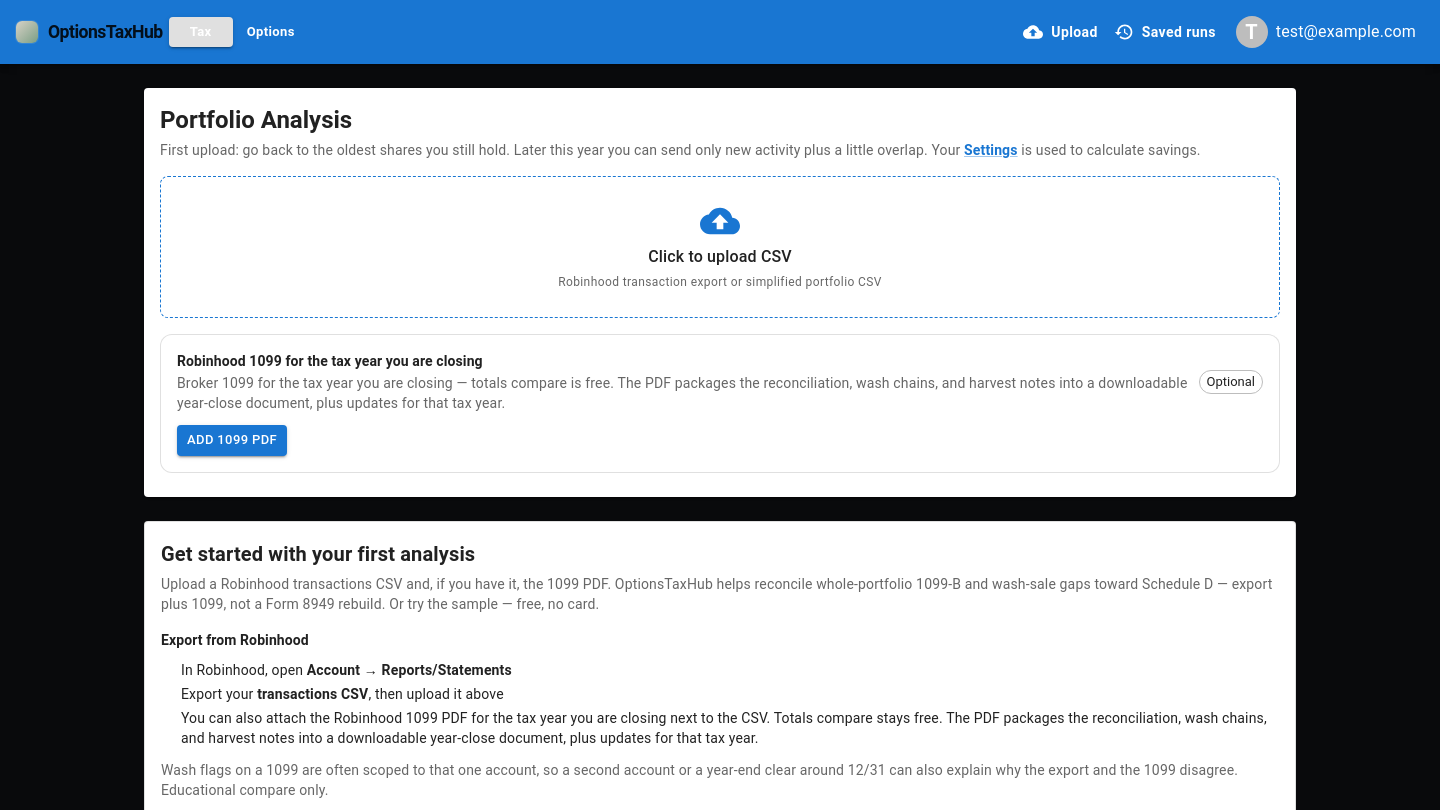
Scenario: DashboardPage › loads a saved analysis from history and shows saved-history messaging
Click the button "Saved runs" at (1167, 32), box [1110, 14, 1224, 50]
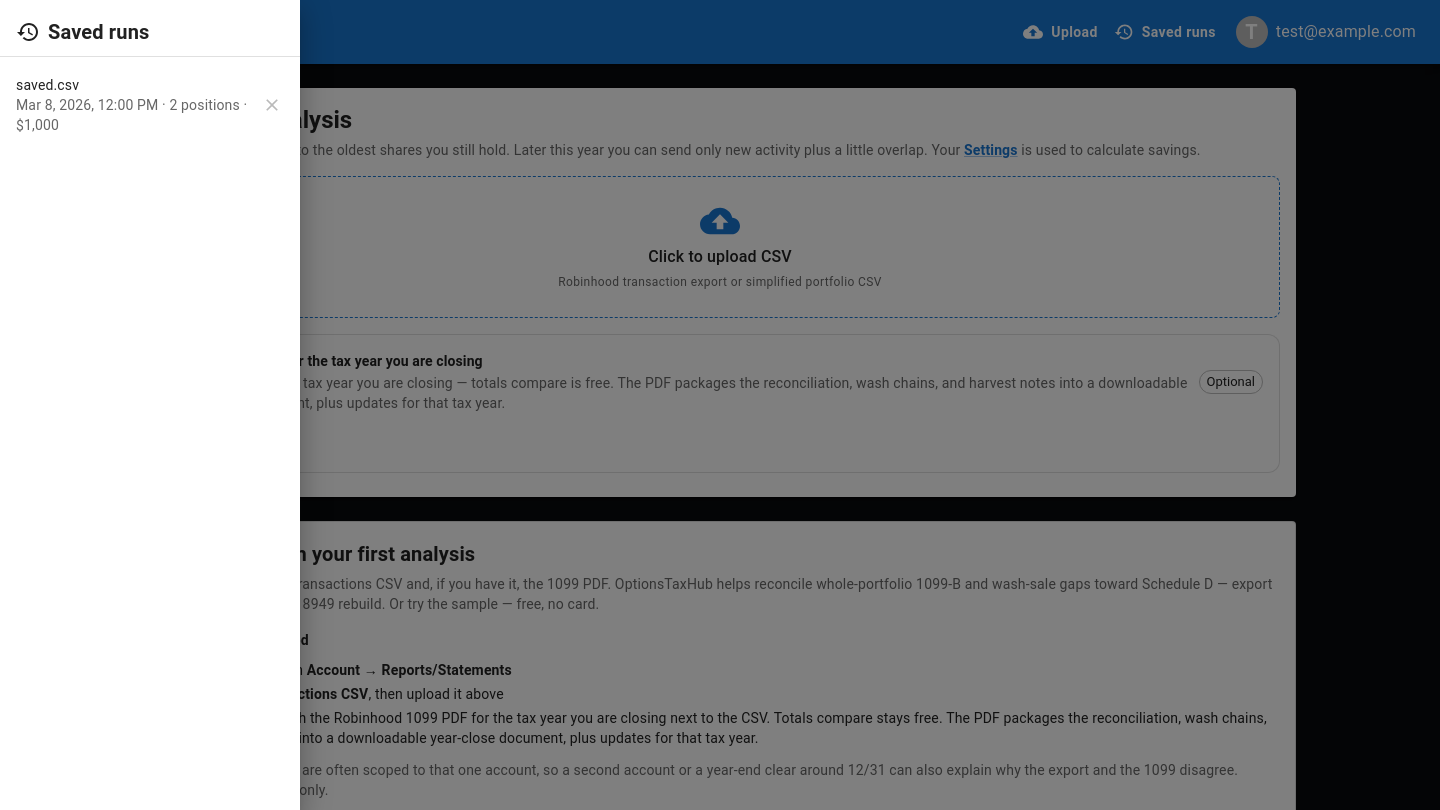
Click the text "saved.csv" at (48, 85), box [16, 77, 79, 93]
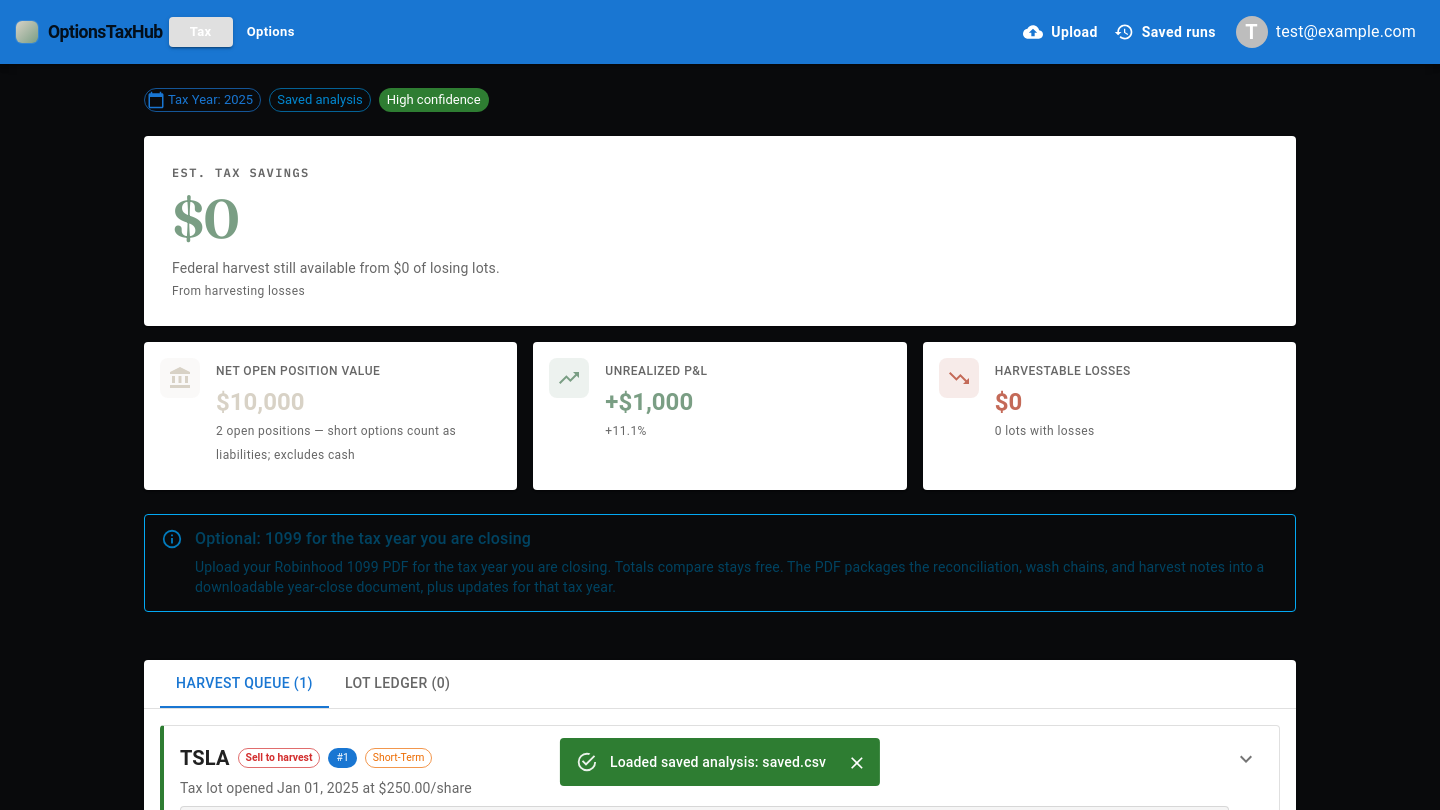
Result: the text "Saved analysis" is shown at [270, 90, 370, 110]
Result: the text "Loaded saved analysis: saved.csv" is shown at [610, 754, 826, 770]
